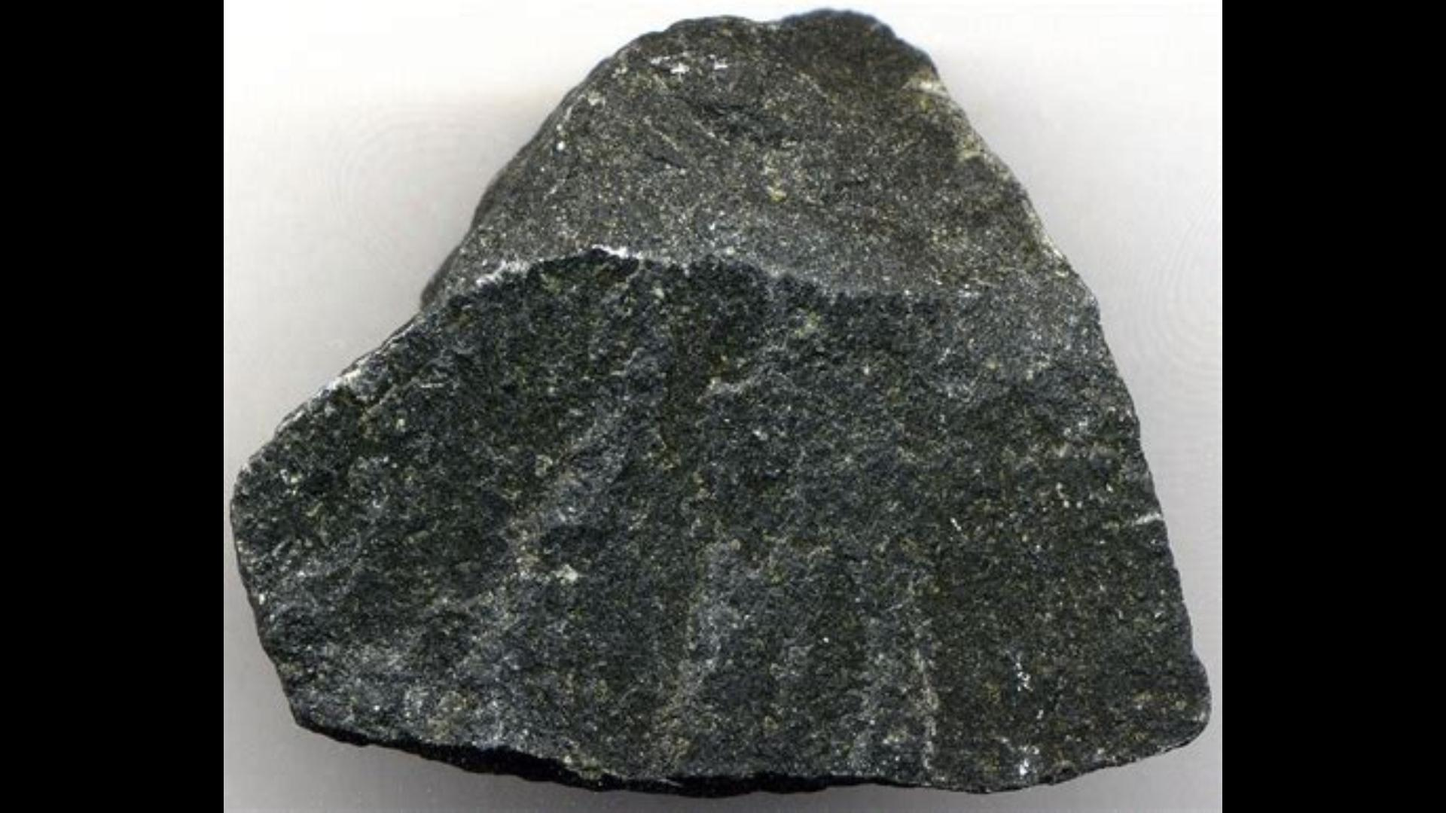rock: (234, 15, 1208, 794)
